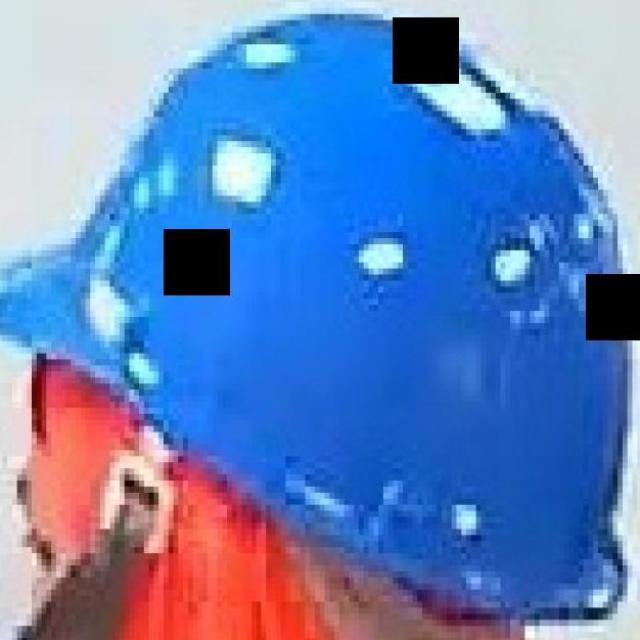blue helmet: (6, 13, 639, 623)
